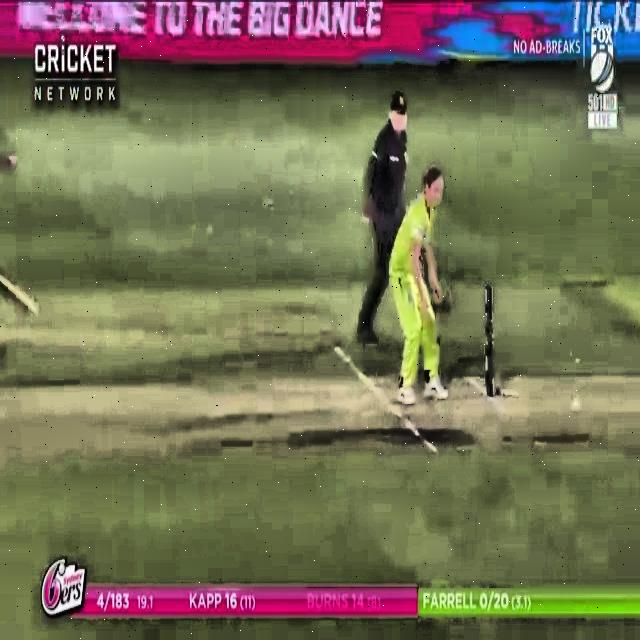Ball: (563, 394, 588, 417)
Bat: (0, 266, 41, 324)
Pitch_Line: (330, 343, 439, 456)
Undis_Wicket: (468, 274, 510, 404)
